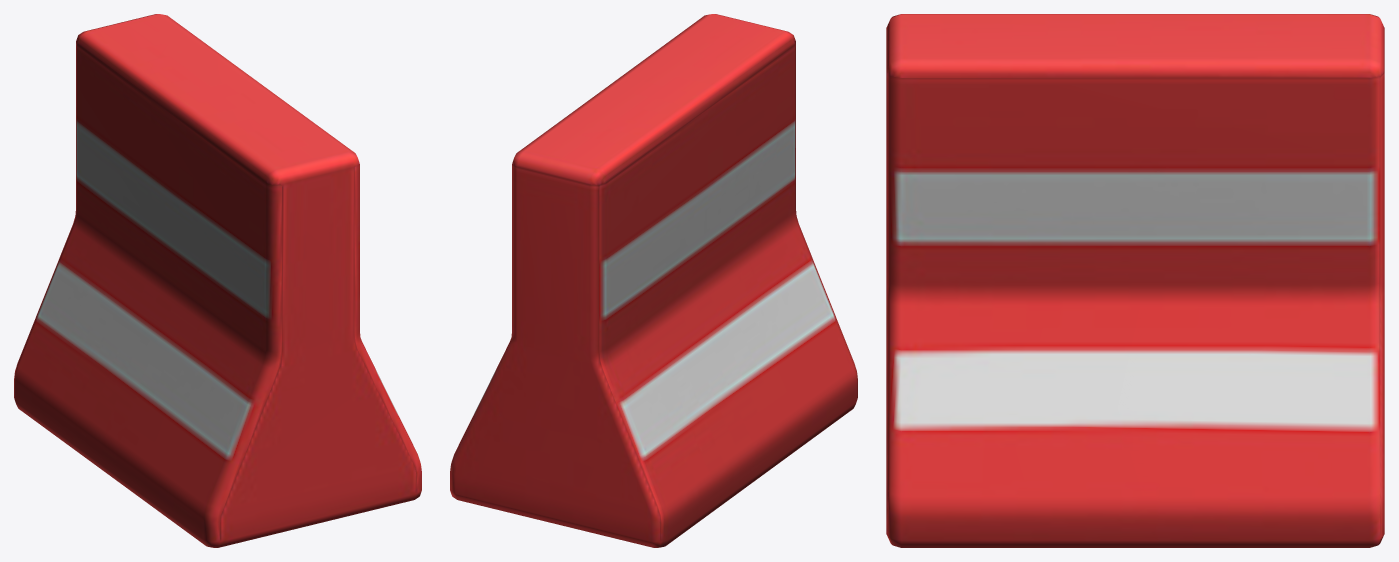
The model's file is Road_Barrier.fbx.
3 views of the same model, side by side, from view 1: azimuth 30°, elevation 25°; view 2: azimuth 150°, elevation 25°; view 3: azimuth 270°, elevation 25° (orthographic). The views are drawn at different scales.
Parts seen in each view (by area): view 1: Road_Barrier; view 2: Road_Barrier; view 3: Road_Barrier.
Part boxes in pixels (x1=…): Road_Barrier: x1=14, y1=14, x2=421, y2=547; Road_Barrier: x1=450, y1=14, x2=857, y2=547; Road_Barrier: x1=886, y1=14, x2=1384, y2=547.
Bounding box in the file's own units: 0.35 × 0.56 × 0.56.
